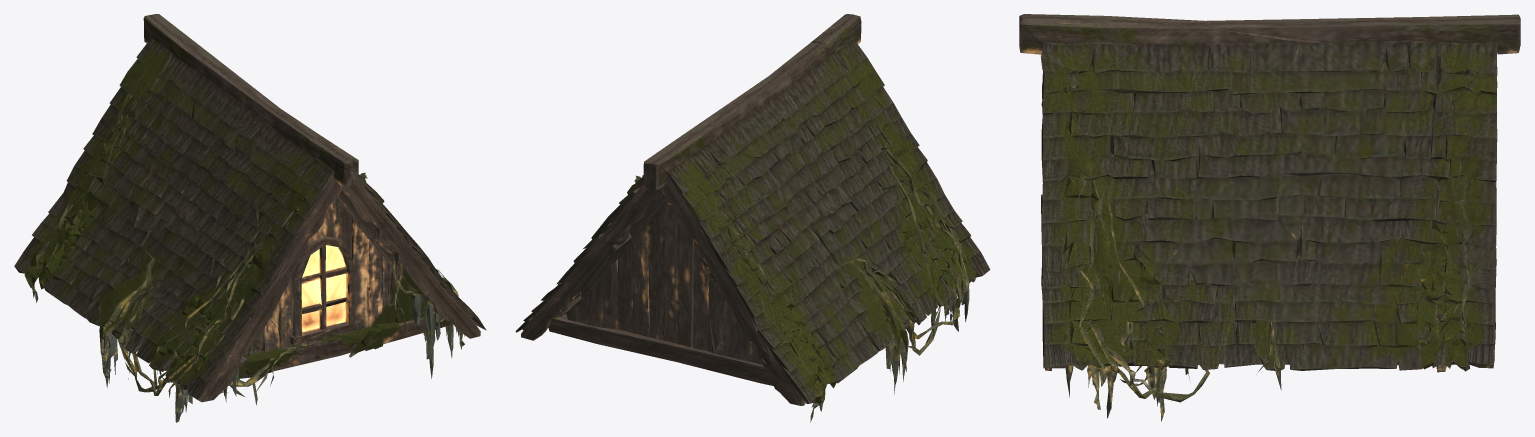
Rendered from sp_m_gable.glb.
3 views of the same model, side by side, from view 1: azimuth 30°, elevation 25°; view 2: azimuth 150°, elevation 25°; view 3: azimuth 270°, elevation 25° (orthographic). The views are drawn at different scales.
Parts seen in each view (by area): view 1: Mesh_0; view 2: Mesh_0; view 3: Mesh_0.
Boxes of the visible parts, x1,y1,x2,y2 form: Mesh_0: (14,14,486,422); Mesh_0: (515,14,990,422); Mesh_0: (1019,14,1520,421).
Bounding box in the file's own units: 1.61 × 1.37 × 1.88.
1 material, 1 textured.
